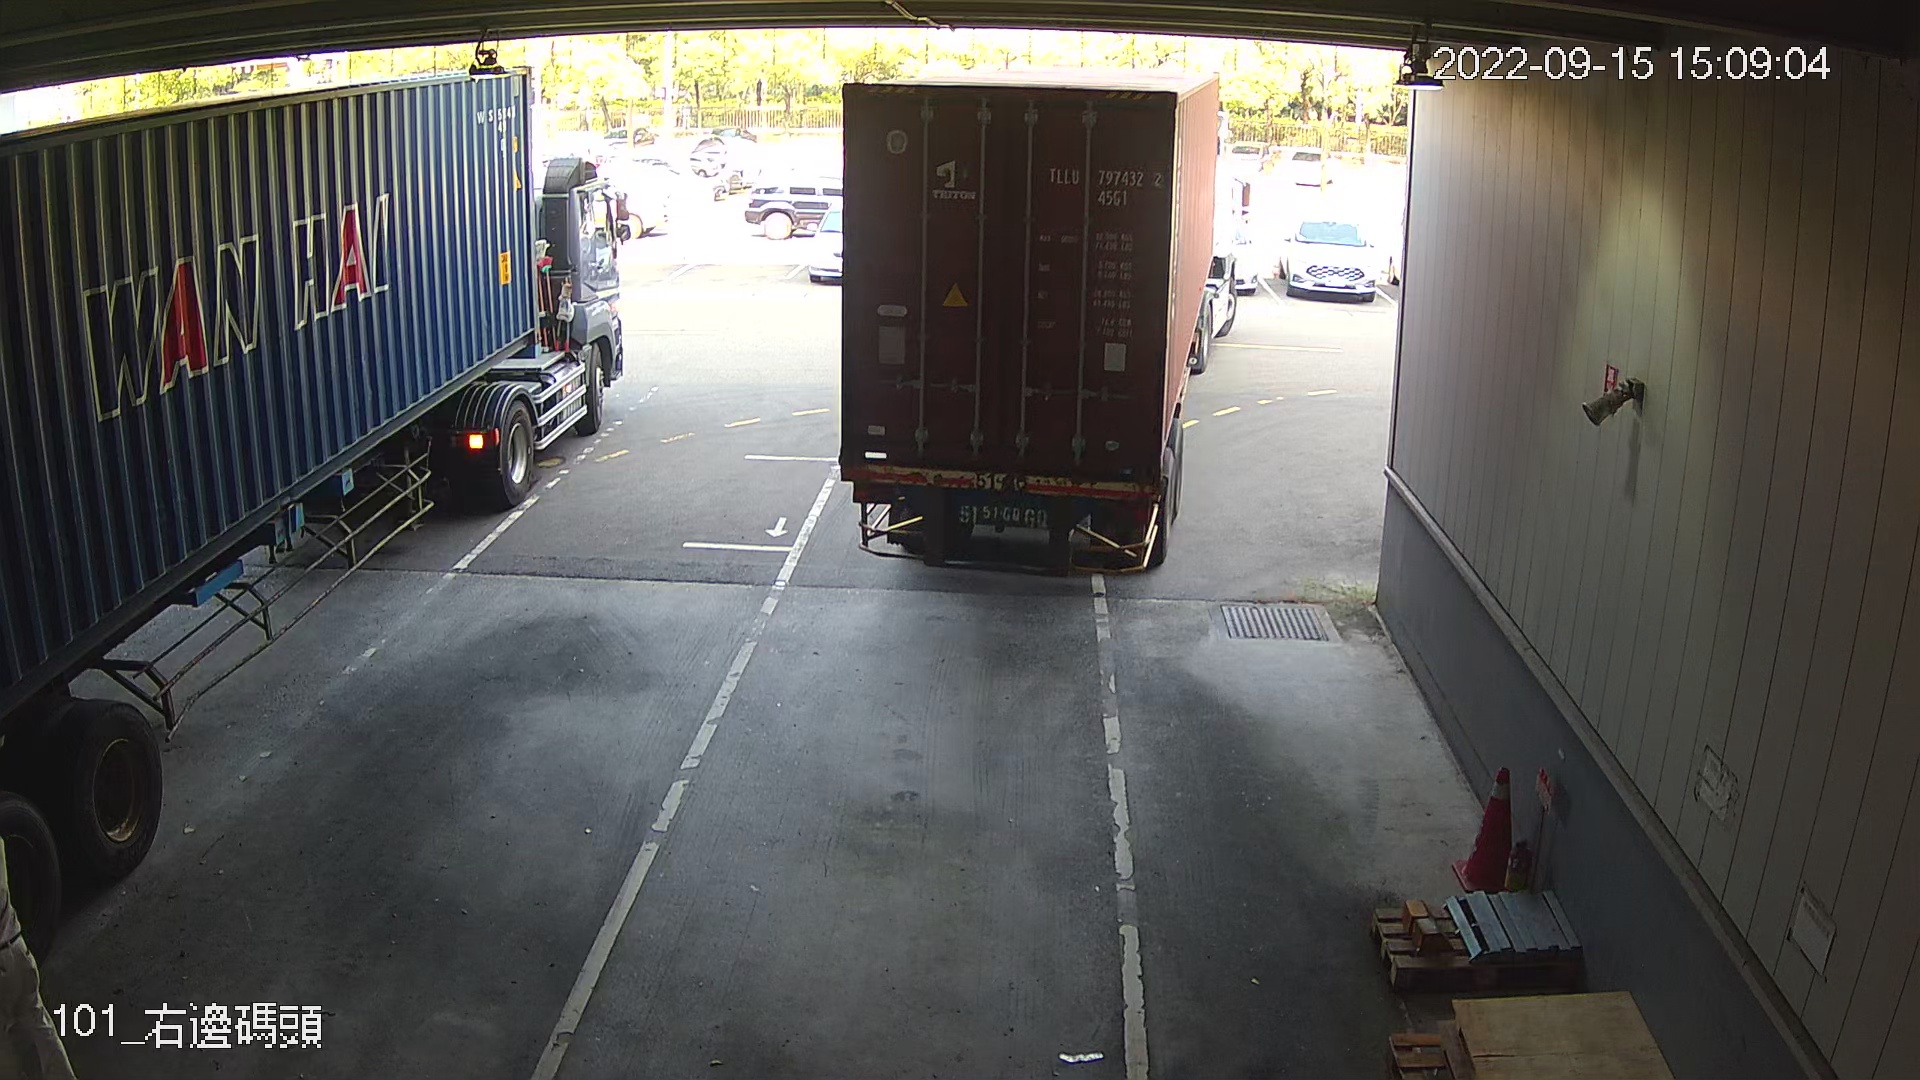container: (1044, 157, 1166, 214)
